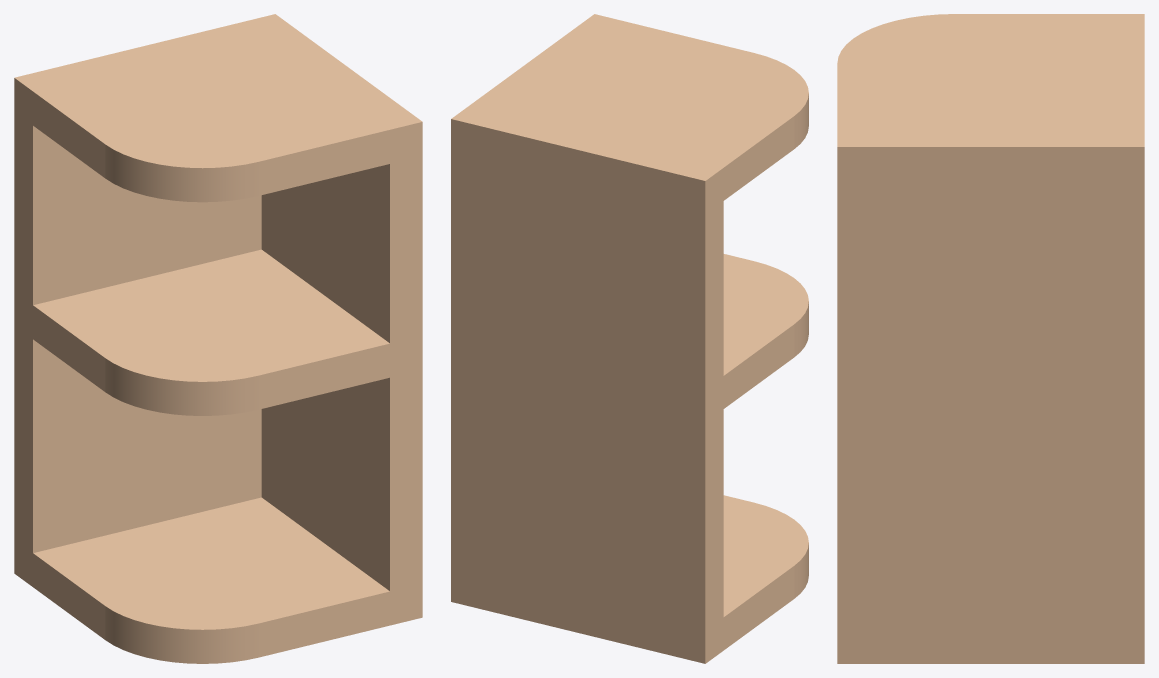
The model's file is kitchenCabinetUpperCorner.glb.
3 renders of one model, left to right at view 1: azimuth 30°, elevation 25°; view 2: azimuth 150°, elevation 25°; view 3: azimuth 270°, elevation 25°, orthographic. The views are drawn at different scales.
Visible parts, largest first — view 1: kitchenCabinetUpperCorner(Clone); view 2: kitchenCabinetUpperCorner(Clone); view 3: kitchenCabinetUpperCorner(Clone).
Boxes of the visible parts, <box> form: kitchenCabinetUpperCorner(Clone): <box>14,14,422,663</box>; kitchenCabinetUpperCorner(Clone): <box>451,14,808,663</box>; kitchenCabinetUpperCorner(Clone): <box>837,14,1144,663</box>.
Size of the model in its own units: 0.4365 by 0.7917 by 0.4263.
Materials: 1 (1 with a texture image).
